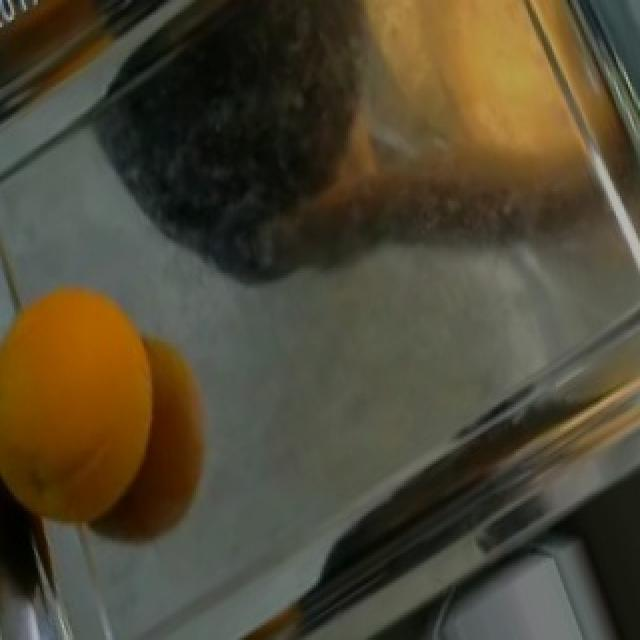Fruit: (2, 268, 180, 551)
